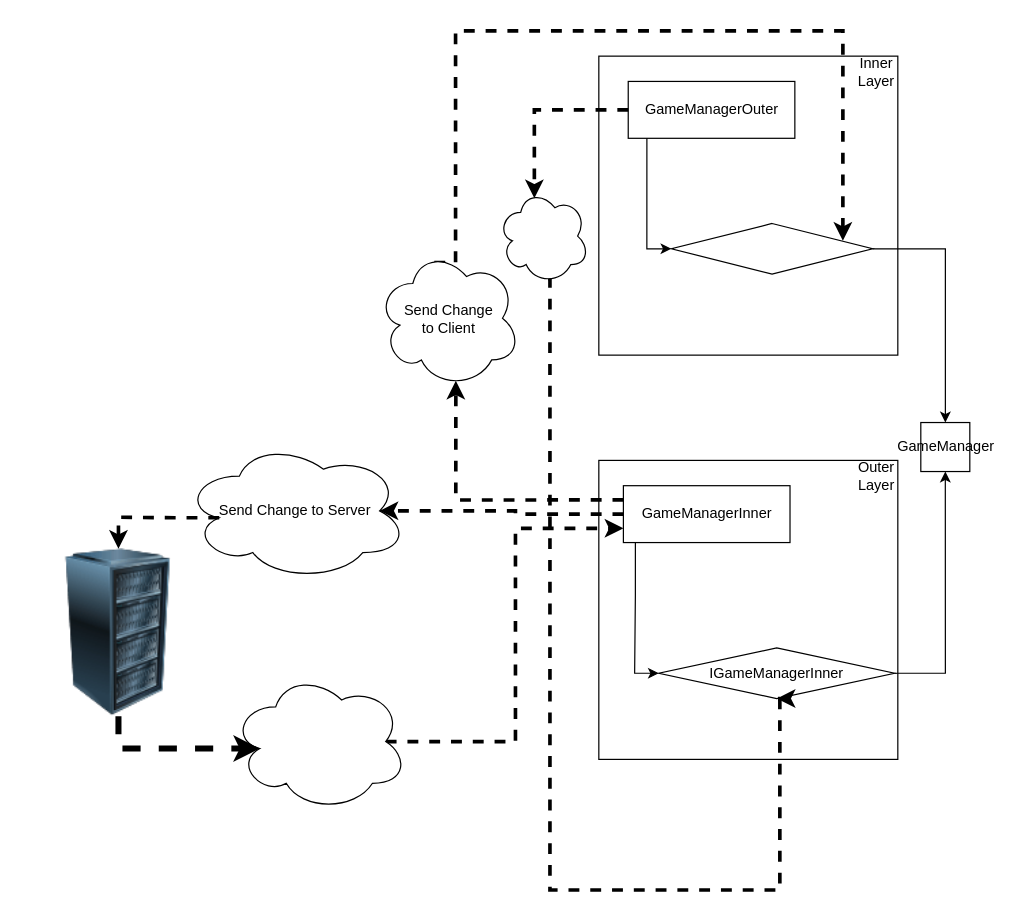
Image size: 1014x922. Some labels were removed from this diagram. The centre of each missing label's shape, as x and y in pixels:
"IGameManagerOuter" goes at point (771, 248).
"Recieve Change from Server" goes at point (319, 741).
"Send Call" goes at point (543, 236).
